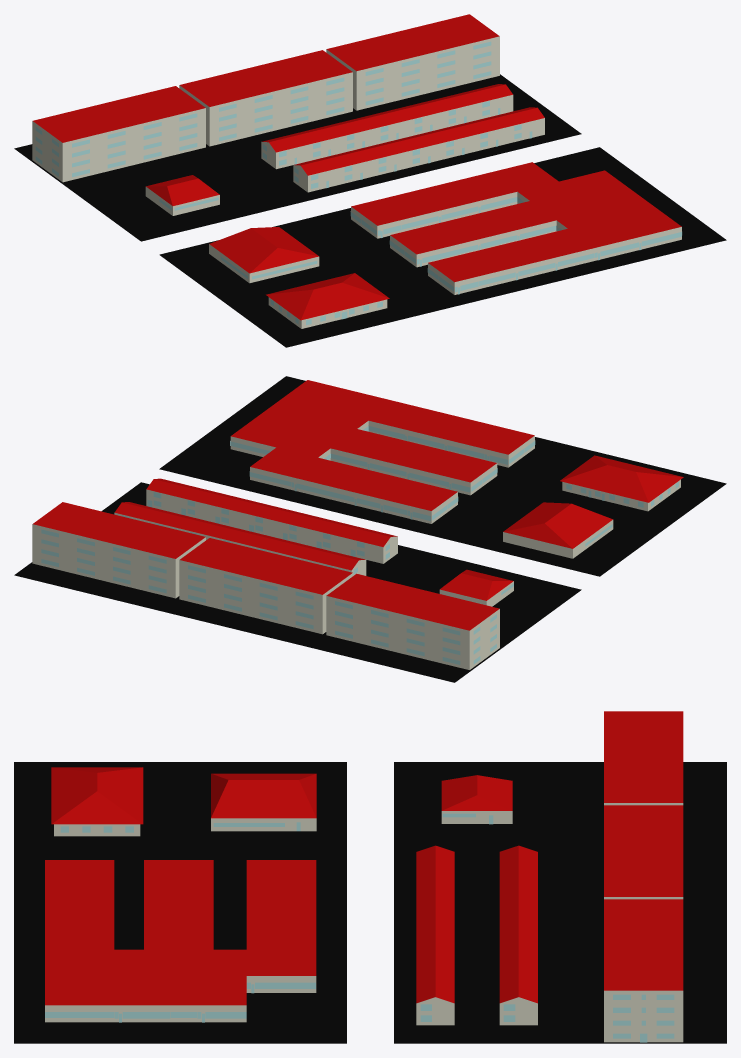
3 renders of one model, top to bottom at view 1: azimuth 30°, elevation 25°; view 2: azimuth 150°, elevation 25°; view 3: azimuth 270°, elevation 25°, orthographic. The views are drawn at different scales.
Parts seen in each view (by area): view 1: Roofs, Ground, Walls, Windows; view 2: Roofs, Ground, Walls, Windows; view 3: Ground, Roofs, Walls, Windows.
Boxes of the visible parts, bbox=[...] form: Roofs: bbox=[33, 14, 681, 320]; Ground: bbox=[14, 74, 726, 347]; Walls: bbox=[32, 36, 681, 328]; Windows: bbox=[35, 41, 682, 325]; Roofs: bbox=[33, 380, 683, 630]; Ground: bbox=[14, 376, 726, 682]; Walls: bbox=[32, 420, 680, 669]; Windows: bbox=[41, 425, 678, 664]; Ground: bbox=[14, 762, 726, 1043]; Roofs: bbox=[45, 711, 683, 1005]; Walls: bbox=[45, 803, 683, 1042]; Windows: bbox=[45, 813, 674, 1042].
Size of the model in its own units: 142 by 12.19 by 152.
